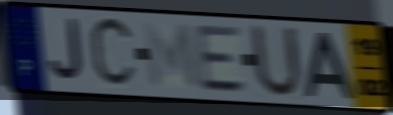A: (302, 30, 358, 101)
C: (87, 14, 138, 93)
E: (193, 24, 250, 94)
J: (47, 16, 86, 85)
M: (141, 20, 203, 93)
U: (248, 22, 305, 101)
